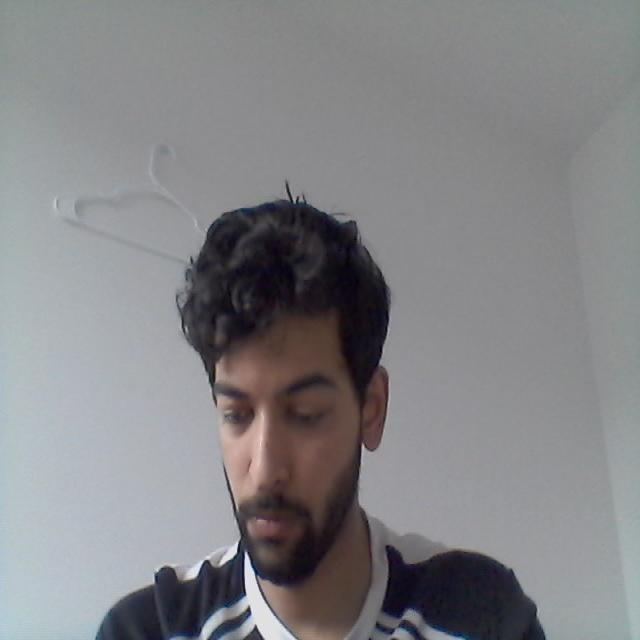nocap: (165, 175, 413, 401)
